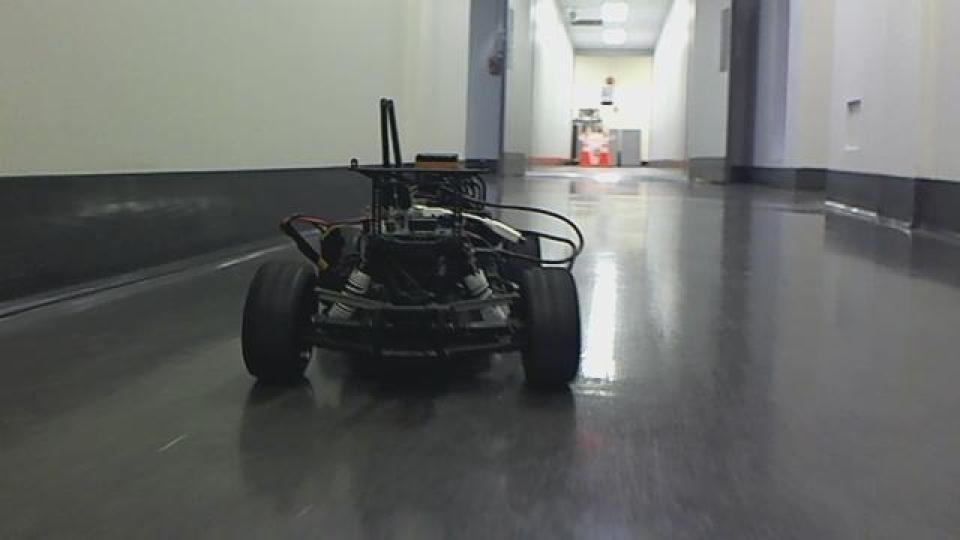car: (237, 96, 587, 392)
